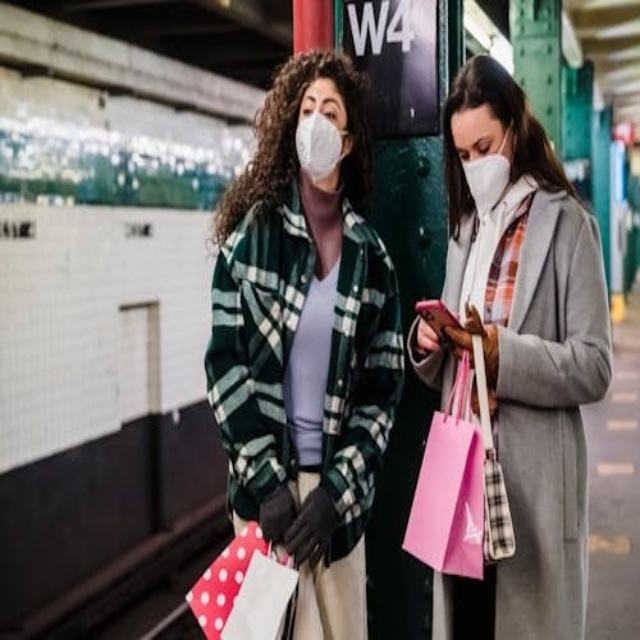Guantes: (430, 303, 501, 419), (287, 475, 342, 573), (259, 480, 296, 550)
Mascara: (461, 125, 514, 212), (295, 110, 348, 182)
Sin_gafas: (298, 88, 344, 123), (457, 123, 498, 158)
